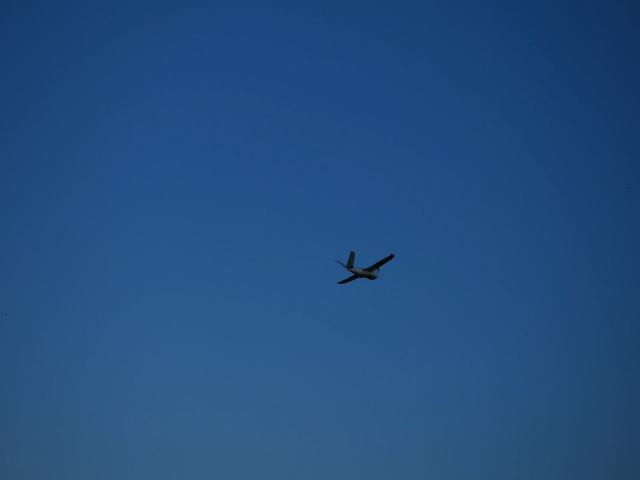plane: (334, 251, 393, 287)
